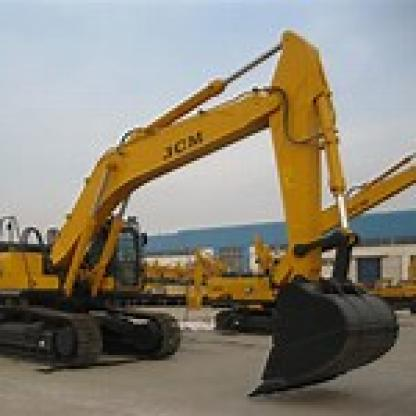excavator: (6, 20, 413, 400)
